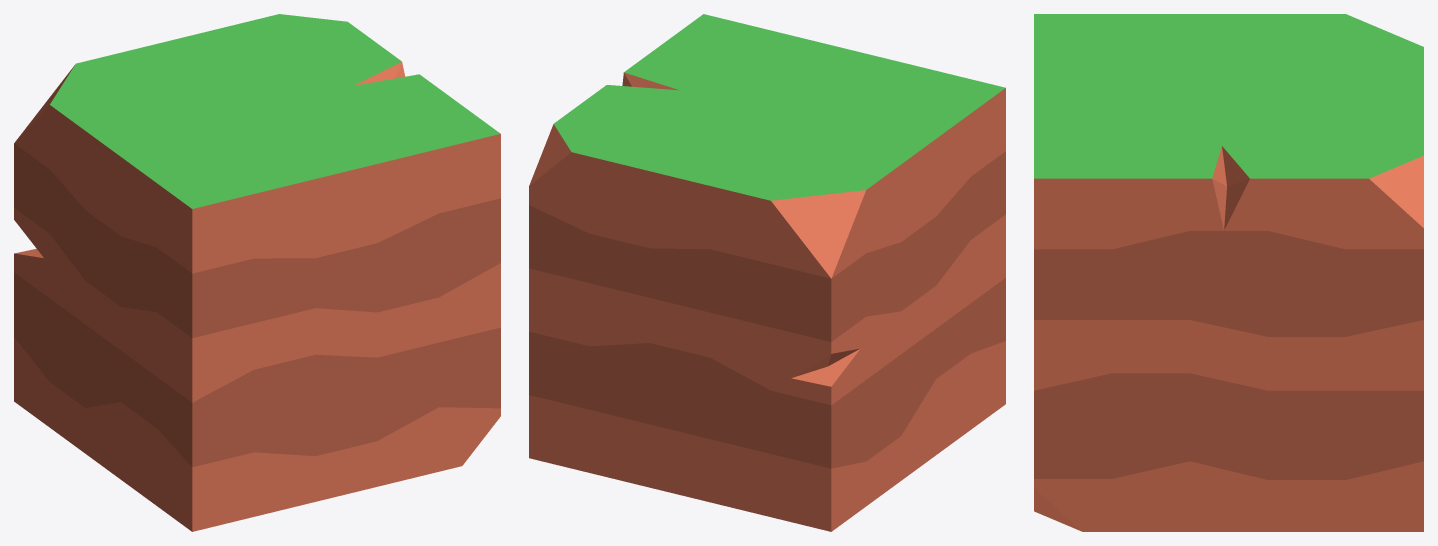
The model's file is Stone031.fbx.
3 renders of one model, left to right at view 1: azimuth 30°, elevation 25°; view 2: azimuth 150°, elevation 25°; view 3: azimuth 270°, elevation 25°, orthographic. The views are drawn at different scales.
Parts seen in each view (by area): view 1: Stone031; view 2: Stone031; view 3: Stone031.
Boxes of the visible parts, x1,y1,x2,y2 form: Stone031: [14, 14, 500, 531]; Stone031: [529, 14, 1005, 531]; Stone031: [1034, 14, 1423, 531].
Size of the model in its own units: 156 by 156 by 156.
